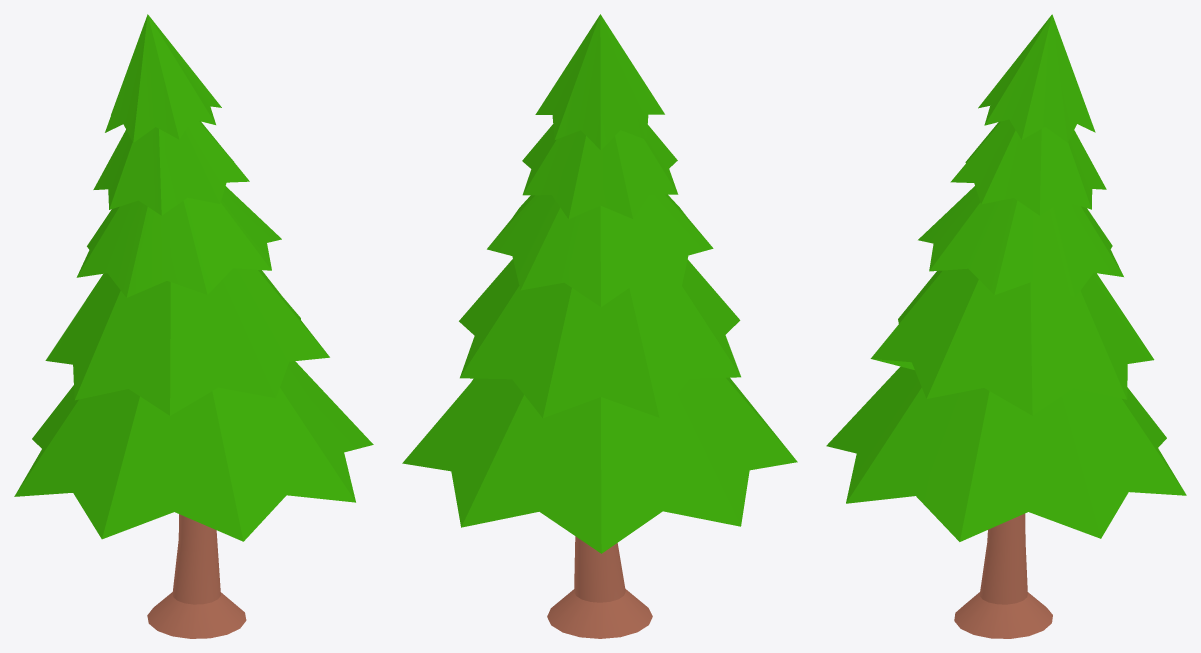
Rendered from object_148_lev1.glb.
3 views of the same model, side by side, from view 1: azimuth 30°, elevation 25°; view 2: azimuth 150°, elevation 25°; view 3: azimuth 270°, elevation 25° (orthographic). The views are drawn at different scales.
Parts seen in each view (by area): view 1: object_148_lev1; view 2: object_148_lev1; view 3: object_148_lev1.
Part boxes in pixels (bbox=[...]): object_148_lev1: bbox=[14, 14, 373, 638]; object_148_lev1: bbox=[402, 14, 797, 638]; object_148_lev1: bbox=[826, 14, 1186, 638].
Bounding box in the file's own units: 0.7015 × 1.27 × 0.7013.
1 material, 1 textured.
